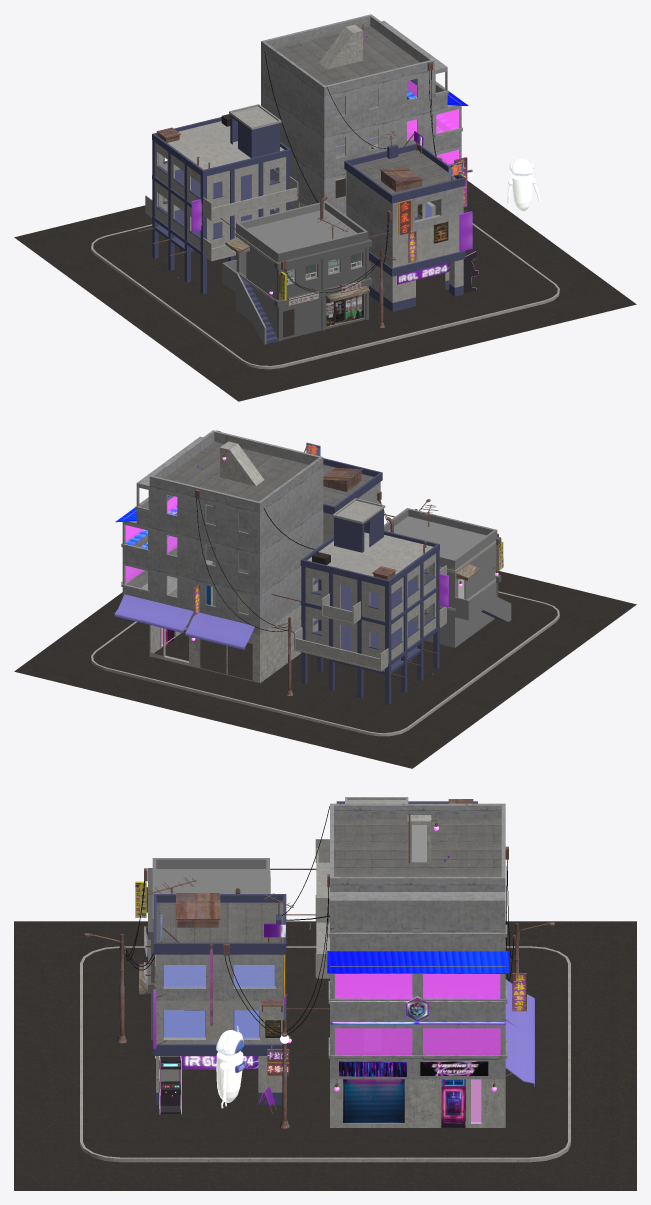
The picture shows the model from 3 angles, top to bottom: view 1: azimuth 30°, elevation 25°; view 2: azimuth 150°, elevation 25°; view 3: azimuth 270°, elevation 25°; orthographic projection. The views are drawn at different scales.
Parts seen in each view (by area): view 1: bawah, Object_39.001, bawah.001, Object_13, Object_14, Object_46, Object_42, Object_10, Object_11, Object_25, Object_16, Object_45 (+6 smaller); view 2: bawah, bawah.001, Object_39, Object_13, Object_14, Object_39.001, Object_46, Object_45, Object_10, Object_38, Object_25, Object_11 (+1 smaller); view 3: bawah, bawah.001, Object_39, Object_10, Object_13, Object_11, Object_25, Object_45, Object_46, Cube, Cube.009, Object_38 (+21 smaller).
Boxes of the visible parts, x1,y1,x2,y2 form: bawah: [14, 114, 636, 401]; Object_39.001: [261, 16, 463, 267]; bawah.001: [93, 178, 557, 365]; Object_13: [91, 104, 559, 369]; Object_14: [152, 115, 463, 343]; Object_46: [222, 201, 367, 344]; Object_42: [274, 232, 372, 341]; Object_10: [275, 26, 456, 194]; Object_11: [344, 143, 465, 276]; Object_25: [137, 24, 472, 327]; Object_16: [280, 252, 363, 326]; Object_45: [235, 24, 430, 301]; bawah: [14, 551, 636, 768]; bawah.001: [93, 592, 557, 732]; Object_39: [121, 430, 322, 634]; Object_13: [91, 498, 559, 736]; Object_14: [300, 508, 506, 704]; Object_39.001: [122, 432, 380, 634]; Object_46: [384, 508, 511, 647]; Object_45: [149, 441, 496, 683]; Object_10: [164, 441, 373, 505]; Object_38: [114, 594, 254, 649]; Object_25: [113, 430, 499, 695]; Object_11: [323, 458, 382, 514]; bawah: [14, 921, 636, 1190]; bawah.001: [83, 948, 567, 1157]; Object_39: [156, 803, 507, 1078]; Object_10: [156, 819, 501, 942]; Object_13: [80, 797, 570, 1162]; Object_11: [153, 894, 286, 1055]; Object_25: [84, 799, 554, 1128]; Object_45: [270, 815, 505, 1127]; Object_46: [152, 858, 269, 930]; Cube: [327, 951, 508, 973]; Cube.009: [343, 1079, 404, 1123]; Object_38: [505, 979, 534, 1086].
Size of the model in its own units: 58.16 by 29.12 by 56.77.
69 materials, 19 textured.
